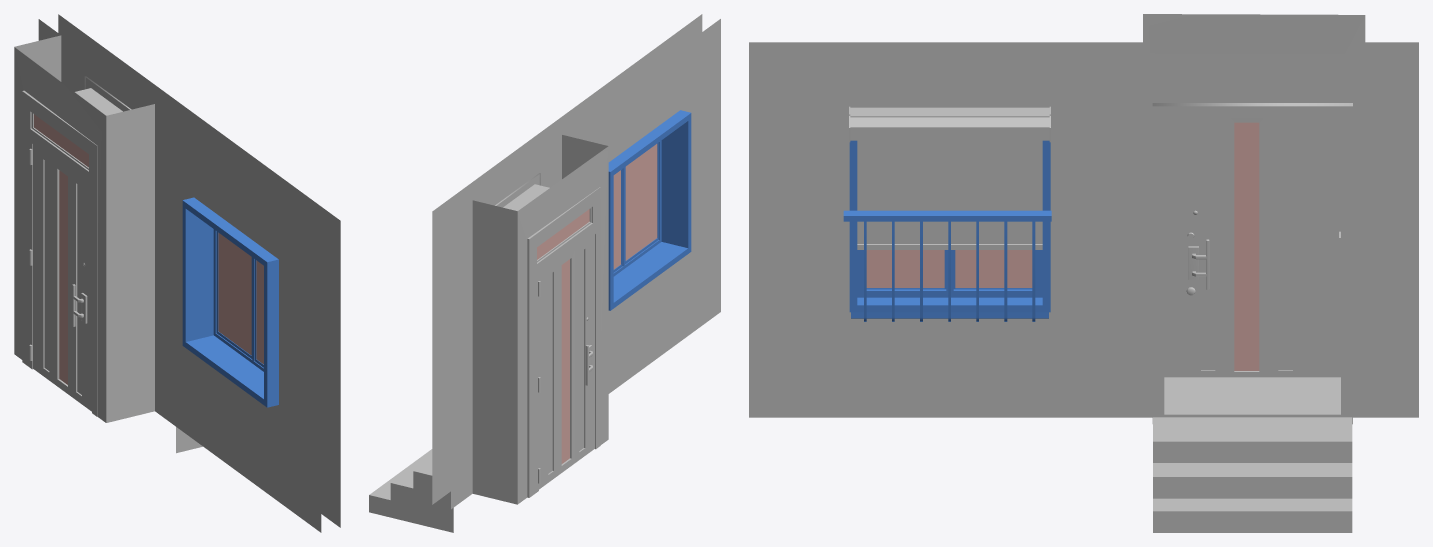
The model's file is AE_House_03_Door_01.fbx.
3 renders of one model, left to right at view 1: azimuth 30°, elevation 25°; view 2: azimuth 150°, elevation 25°; view 3: azimuth 270°, elevation 25°, orthographic. The views are drawn at different scales.
Visible parts, largest first — view 1: AE_House_03_Door_01_LOD0, AE_Door_03_LOD0.001; view 2: AE_House_03_Door_01_LOD0, AE_Door_03_LOD0.001; view 3: AE_House_03_Door_01_LOD0, AE_Door_03_LOD0.001.
Part boxes in pixels (left/top/right/bottom): AE_House_03_Door_01_LOD0: left=14, top=14, right=340, bottom=532; AE_Door_03_LOD0.001: left=33, top=144, right=91, bottom=411; AE_House_03_Door_01_LOD0: left=369, top=14, right=720, bottom=532; AE_Door_03_LOD0.001: left=539, top=234, right=594, bottom=489; AE_House_03_Door_01_LOD0: left=749, top=14, right=1418, bottom=532; AE_Door_03_LOD0.001: left=1179, top=118, right=1313, bottom=377.
Size of what is drawn, in the model's own units: 172 by 350 by 500.
